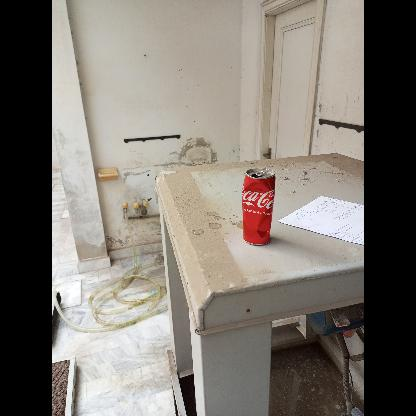Dent_Can: (243, 183, 270, 238)
Lid_Open: (252, 168, 268, 178)
Tin_Can: (241, 165, 275, 243)
